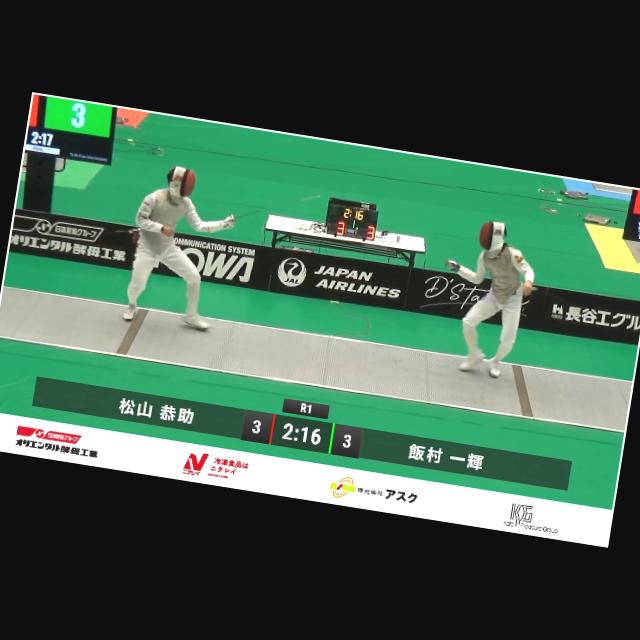blade: (220, 174, 326, 245), (356, 239, 464, 274)
